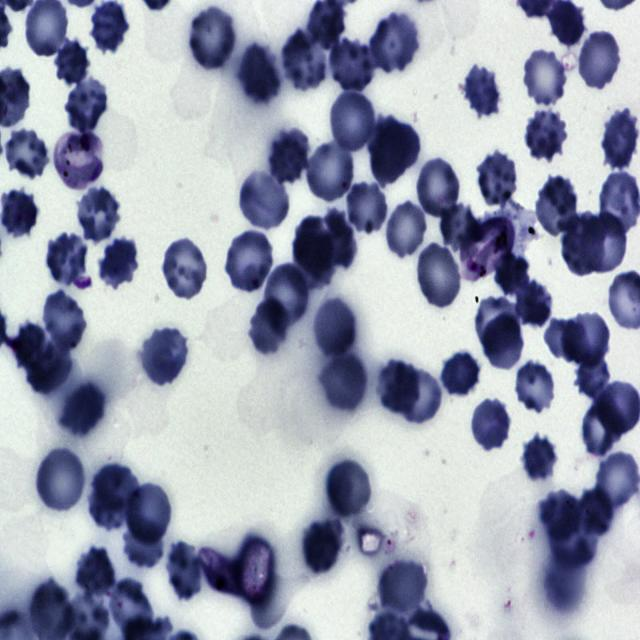red blood cell: (34, 446, 87, 515), (368, 116, 419, 185), (223, 229, 276, 295), (186, 5, 238, 72), (414, 242, 464, 310), (318, 348, 368, 416), (123, 481, 173, 548), (305, 138, 356, 203), (237, 171, 291, 232), (293, 216, 339, 286), (582, 211, 631, 276), (328, 88, 376, 154), (160, 238, 210, 301), (413, 156, 462, 220), (281, 28, 329, 93), (88, 464, 135, 530), (370, 12, 420, 74), (520, 46, 570, 108), (324, 457, 374, 519), (312, 294, 358, 361), (266, 264, 312, 331), (139, 327, 190, 387), (236, 41, 282, 107), (396, 365, 445, 426), (41, 289, 88, 352), (576, 30, 624, 91), (383, 199, 430, 261), (559, 215, 606, 277), (534, 176, 580, 239), (60, 376, 106, 439), (479, 310, 526, 371), (377, 558, 426, 616), (593, 451, 640, 509), (74, 187, 122, 243), (583, 396, 625, 460), (329, 37, 376, 94), (248, 295, 289, 359), (344, 180, 390, 237), (600, 108, 640, 173), (376, 359, 420, 418), (476, 295, 520, 354), (3, 127, 51, 181), (512, 360, 558, 416), (64, 78, 110, 134), (300, 518, 344, 576), (120, 518, 167, 572), (538, 489, 584, 544), (523, 107, 569, 161), (266, 129, 310, 185), (26, 342, 72, 395), (476, 152, 520, 207), (45, 232, 89, 286), (469, 398, 512, 453), (88, 0, 130, 55), (568, 311, 610, 366), (543, 317, 592, 364), (462, 64, 503, 120), (74, 546, 116, 600), (99, 235, 140, 289), (0, 186, 39, 242), (323, 206, 357, 270), (439, 350, 482, 400), (573, 352, 614, 403), (168, 545, 204, 603), (492, 251, 534, 300), (576, 487, 614, 540), (53, 39, 92, 90), (440, 202, 480, 250), (519, 436, 557, 482), (512, 284, 552, 327), (13, 321, 46, 371)
trophozoite: (460, 214, 516, 281), (51, 130, 106, 192)
